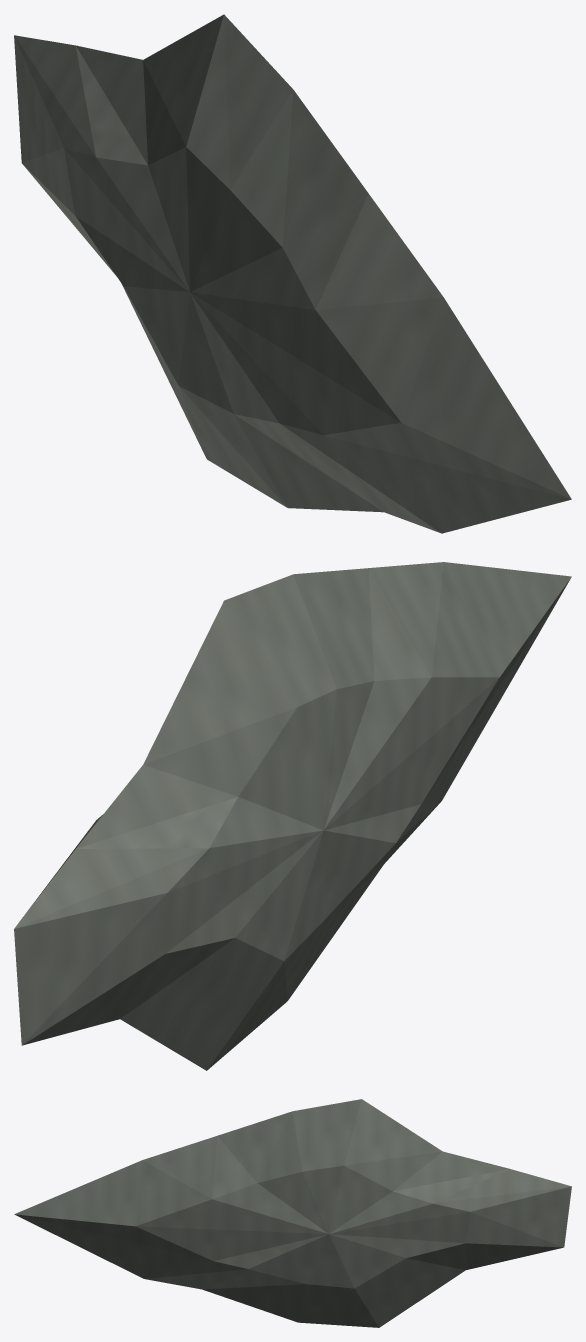
Rendered from AuxiliaStoneBoltHead.fbx.
3 renders of one model, top to bottom at view 1: azimuth 30°, elevation 25°; view 2: azimuth 150°, elevation 25°; view 3: azimuth 270°, elevation 25°, orthographic. The views are drawn at different scales.
Visible parts, largest first — view 1: AuxiliaStoneBoltHead_GameExport; view 2: AuxiliaStoneBoltHead_GameExport; view 3: AuxiliaStoneBoltHead_GameExport.
Boxes of the visible parts, x1,y1,x2,y2 form: AuxiliaStoneBoltHead_GameExport: (14,14,571,533); AuxiliaStoneBoltHead_GameExport: (14,562,571,1070); AuxiliaStoneBoltHead_GameExport: (14,1099,571,1327).
Bounding box in the file's own units: 0.4 × 2.89 × 1.31.
